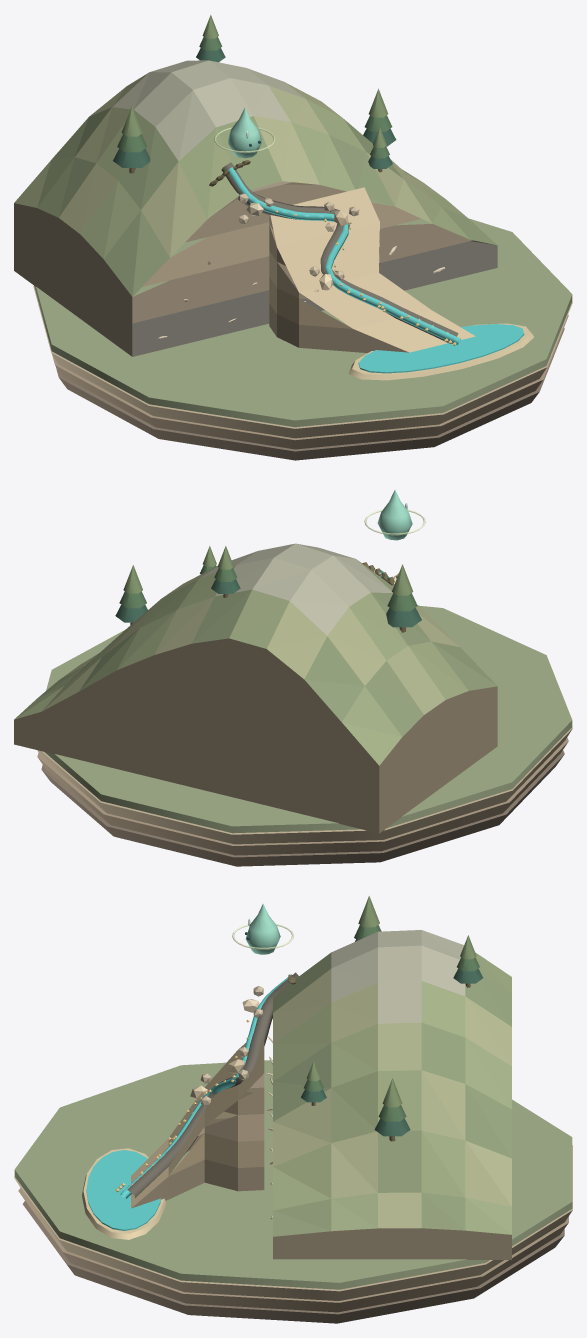
The model's file is huanglong-dissolution.glb.
The picture shows the model from 3 angles, top to bottom: view 1: azimuth 30°, elevation 25°; view 2: azimuth 150°, elevation 25°; view 3: azimuth 270°, elevation 25°; orthographic projection.
Visible parts, largest first — view 1: mountain-cutaway, geological-plinth, dissolution-lower-rock-section, dissolution-mineral-bearing-water, alpine-conifer (×4), 02 • CO₂ enriched water dissolves fractured limestone, dissolution-stream-water, water-drop-body; view 2: mountain-cutaway, geological-plinth, alpine-conifer (×3), water-drop-body; view 3: mountain-cutaway, geological-plinth, dissolution-lower-rock-section, dissolution-mineral-bearing-water, alpine-conifer (×4), 02 • CO₂ enriched water dissolves fractured limestone, water-drop-body, dissolution-stream-water.
Part boxes in pixels (x1=…): mountain-cutaway: x1=14, y1=60, x2=497, y2=356; geological-plinth: x1=33, y1=198, x2=572, y2=460; dissolution-lower-rock-section: x1=269, y1=187, x2=475, y2=353; dissolution-mineral-bearing-water: x1=348, y1=323, x2=534, y2=380; alpine-conifer (×4): x1=113, y1=14, x2=396, y2=173; 02 • CO₂ enriched water dissolves fractured limestone: x1=209, y1=160, x2=458, y2=343; dissolution-stream-water: x1=228, y1=167, x2=460, y2=344; water-drop-body: x1=228, y1=107, x2=261, y2=158; mountain-cutaway: x1=14, y1=543, x2=497, y2=833; geological-plinth: x1=37, y1=605, x2=572, y2=866; alpine-conifer (×3): x1=115, y1=546, x2=421, y2=632; water-drop-body: x1=377, y1=489, x2=412, y2=540; mountain-cutaway: x1=266, y1=930, x2=511, y2=1259; geological-plinth: x1=14, y1=1060, x2=572, y2=1323; dissolution-lower-rock-section: x1=131, y1=1036, x2=264, y2=1208; dissolution-mineral-bearing-water: x1=82, y1=1148, x2=165, y2=1239; alpine-conifer (×4): x1=301, y1=896, x2=482, y2=1141; 02 • CO₂ enriched water dissolves fractured limestone: x1=127, y1=972, x2=298, y2=1197; water-drop-body: x1=245, y1=903, x2=280, y2=954; dissolution-stream-water: x1=120, y1=974, x2=291, y2=1198.
Size of the model in its own units: 9.23 by 5.28 by 9.59.
